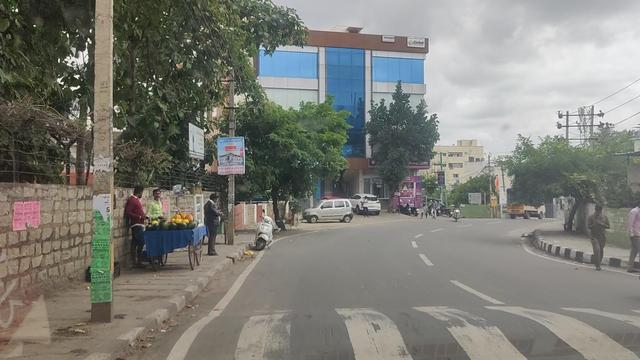SpeedBump: (194, 307, 640, 360)
